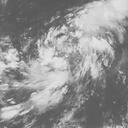cyclone: (29, 23, 116, 113)
